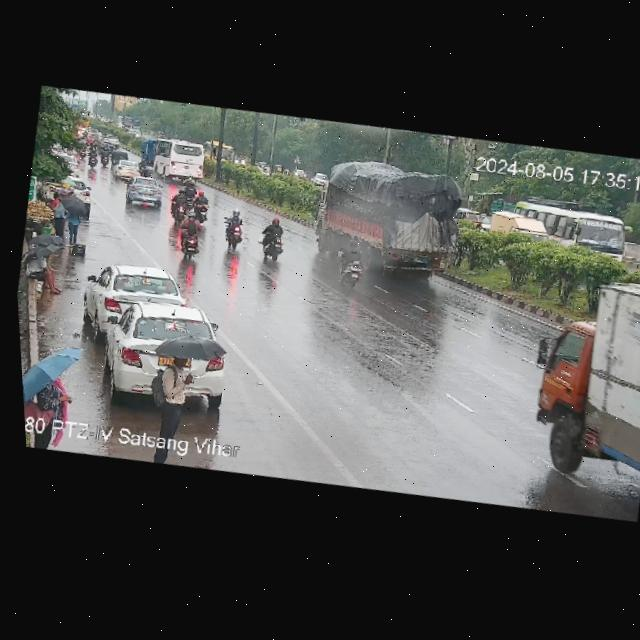bus: (512, 291, 640, 506), (139, 131, 215, 186), (200, 137, 236, 166), (115, 113, 136, 131)
car: (75, 291, 236, 421), (81, 255, 190, 330), (122, 173, 165, 209), (114, 158, 145, 182), (311, 171, 331, 187), (102, 133, 122, 148), (109, 149, 130, 163), (291, 168, 308, 181)
motorcycle: (333, 239, 375, 288), (255, 215, 295, 262), (216, 206, 255, 252), (175, 215, 207, 261), (165, 187, 193, 225), (81, 138, 106, 170), (192, 191, 214, 223), (181, 173, 199, 197)
person: (144, 348, 207, 438), (22, 361, 82, 436), (18, 236, 69, 296), (45, 189, 90, 247)
truck: (308, 151, 474, 285)
